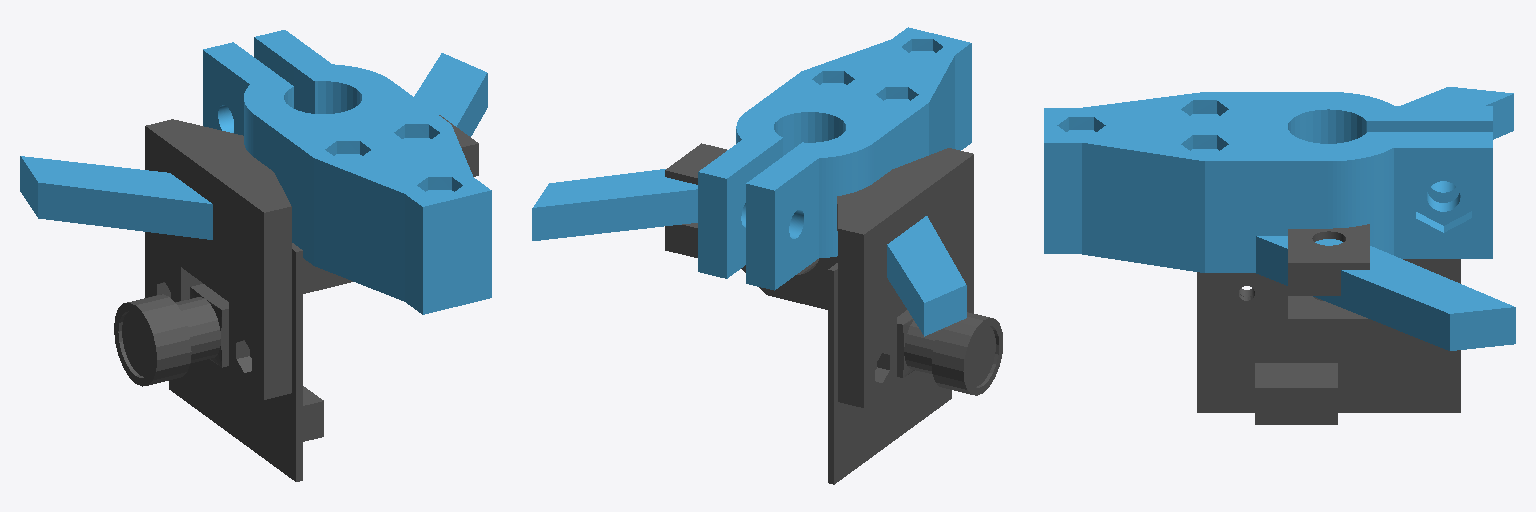
The robot description file, URDF, robot "Camera":
<?xml version="1.0" ?>
<robot name="Camera">

 	<link name="world"/>

	<link name="base_link">
		<visual>
			<origin rpy="0 0 0.0" xyz="0 0 0"/>
      		<geometry>
                <mesh filename="src/assets/meshes/base_rod_holder.stl"/>
      		</geometry>
		</visual>
		<visual>
			<origin rpy="0 0 0.0" xyz="0 0 0.1524"/>
      		<geometry>
                <cylinder radius="0.0047625" length="0.3048" />
      		</geometry>
            <material name="gray">
                <color rgba="0.4 0.4 0.4 1.0"/>
            </material>
		</visual>
		<collision>
			<origin rpy="0 0 0.0" xyz="0 0 0"/>
      		<geometry>
                <mesh filename="src/assets/meshes/base_rod_holder.stl"/>
      		</geometry>
		</collision>
		<collision>
			<origin rpy="0 0 0.0" xyz="0 0 0.1524"/>
      		<geometry>
                <cylinder radius="0.0047625" length="0.3048" />
      		</geometry>
		</collision>
        <inertial>
            <mass value="1"/>
            <inertia ixx="0.0001" ixy="0" ixz="0" iyy="0.0001" iyz="0" izz="0.00001"/>
        </inertial>
  	</link>

      <link name="holder_link">
        <visual>
              <origin rpy="0 0 0" xyz="0.0 0.0 0.0"/>
              <geometry>
                <mesh filename="src/assets/meshes/top_rod_holder.stl"/>
              </geometry>
              <material name="gray">
                <color rgba="0.4 0.4 0.4 1.0"/>
              </material>
        </visual>
        <collision>
              <origin rpy="0 0 0" xyz="0.0 0.0 0.0"/>
              <geometry>
                <mesh filename="src/assets/meshes/top_rod_holder.stl"/>
              </geometry>
        </collision>
        <inertial>
            <mass value="1"/>
            <inertia ixx="0.0001" ixy="0" ixz="0" iyy="0.0001" iyz="0" izz="0.00001"/>
        </inertial>
      </link>

      <link name="camera_link">
        <visual>
              <origin rpy="0 0 0" xyz="0.0 0.0 0.0"/>
              <geometry>
                  <mesh filename="src/assets/meshes/camera_with_holder.stl"/>
              </geometry>
              <material name="gray">
                <color rgba="0.4 0.4 0.4 1.0"/>
              </material>
        </visual>
		<collision>
              <origin rpy="0 0 0" xyz="0.0 0.0 0.0"/>
              <geometry>
                  <mesh filename="src/assets/meshes/camera_with_holder.stl"/>
              </geometry>
		</collision>
        <inertial>
            <mass value="1"/>
            <inertia ixx="0.0001" ixy="0" ixz="0" iyy="0.0001" iyz="0" izz="0.00001"/>
        </inertial>
      </link>

     <joint name="world_joint" type="fixed">
        <parent link="world"/>
        <child link="base_link"/>
        <origin rpy="0.0 0.0 0.0" xyz="0.0 0.0 0.0"/>
     </joint>

      <joint name="yaw_joint" type="revolute">
        <parent link="base_link"/>
        <child link="holder_link"/>
        <origin rpy="0.0 0.0 0.0" xyz="0.0 0.0 0.0"/>
        <limit lower="0" upper="6.28319" velocity="1"/>
        <axis xyz="0 0 1"/>
      </joint>

      <joint name="pitch_joint" type="revolute">
        <parent link="holder_link"/>
        <child link="camera_link"/>
        <origin rpy="0.0 0.0 0.0" xyz="0.0 0.0 0.0"/>
        <limit lower="0" upper="6.28319" velocity="1"/>
        <axis xyz="1 0 0"/>
      </joint>
</robot>

--- Render facts (derived) ---
3 views of the same robot in one strip: view 1: azimuth 30°, elevation 25°; view 2: azimuth 150°, elevation 25°; view 3: azimuth 270°, elevation 25° (orthographic).
Robot: Camera — 4 links, 3 joints (2 revolute, 1 fixed); root link world; default pose: every joint at zero.
Links seen in each view (by area): view 1: base_link, camera_link; view 2: base_link, camera_link; view 3: base_link, camera_link.
Link boxes in pixels (x1,y1,x2,y2): base_link: (20,30,491,314); camera_link: (114,115,478,481); base_link: (532,27,971,336); camera_link: (665,143,1002,484); base_link: (1044,87,1515,350); camera_link: (1197,224,1460,424).
Bounding box of the posed robot: 65.38 × 57.22 × 43.99 m (x, y, z).
2 mesh visuals loaded from 3 distinct referenced files (2 binary STL); not drawn: 1 (reference not matched to a file when rendering).